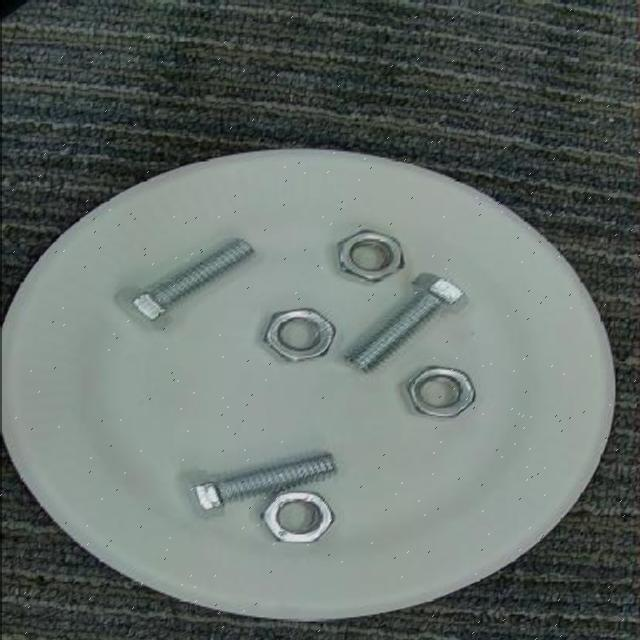Bolt: (114, 234, 255, 330), (340, 271, 466, 377), (178, 450, 338, 522)
Nut: (257, 305, 335, 370), (398, 362, 476, 426), (260, 488, 336, 550), (329, 226, 405, 282)
